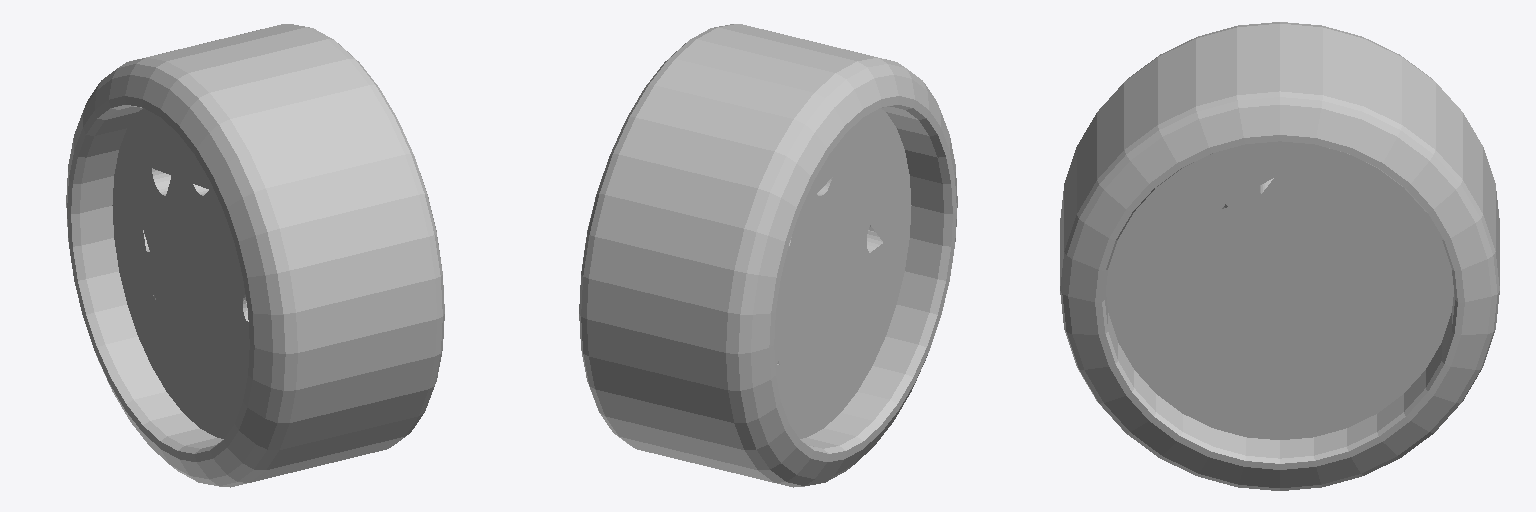
File: wheel.obj
3 renders of one model, left to right at view 1: azimuth 30°, elevation 25°; view 2: azimuth 150°, elevation 25°; view 3: azimuth 270°, elevation 25°, orthographic.
Visible parts, largest first — view 1: Cylinder; view 2: Cylinder; view 3: Cylinder.
Boxes of the visible parts, x1,y1,x2,y2 form: Cylinder: [66, 24, 444, 487]; Cylinder: [579, 24, 957, 487]; Cylinder: [1060, 22, 1499, 490].
Size of the model in its own units: 0.4812 by 0.9592 by 0.9592.